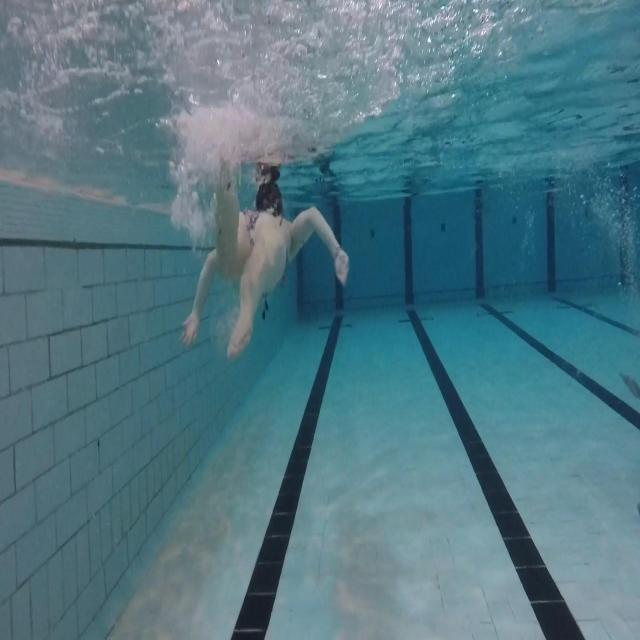human: (180, 157, 350, 360)
